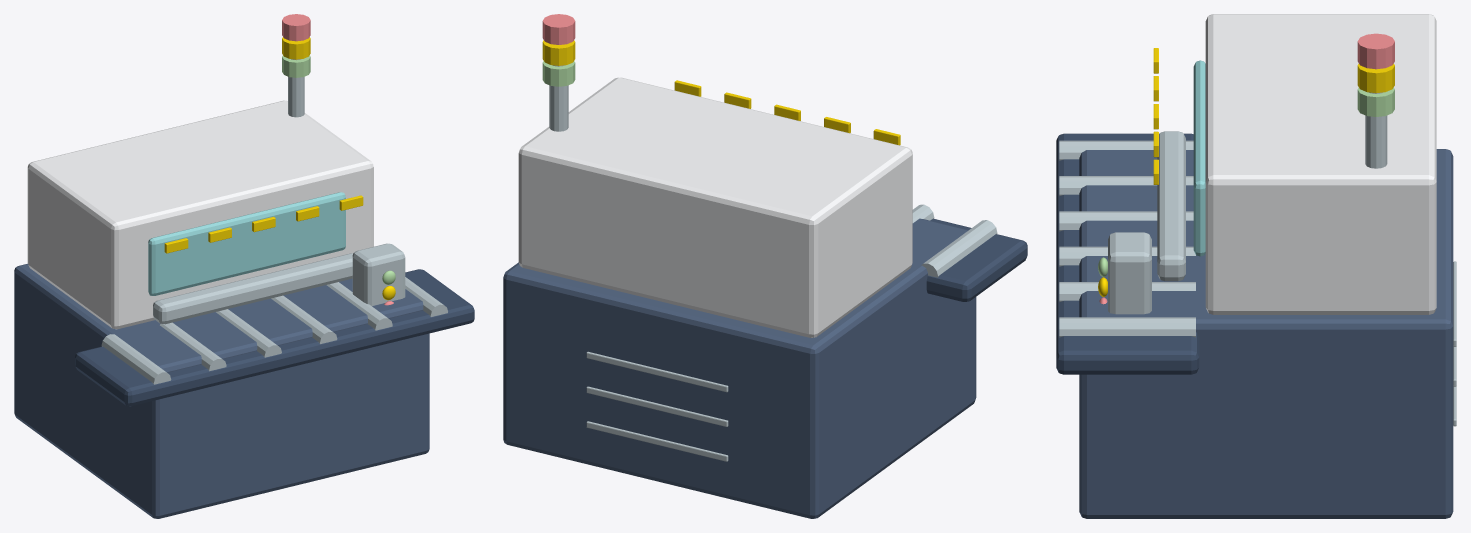
Rendered from machine-seal.glb.
3 renders of one model, left to right at view 1: azimuth 30°, elevation 25°; view 2: azimuth 150°, elevation 25°; view 3: azimuth 270°, elevation 25°, orthographic. The views are drawn at different scales.
Parts seen in each view (by area): view 1: Machine pedestal.003, Upper body.003, Console.003, Safety visor.003, Belt.011, Control button.010, Control button.011, Control button.009; view 2: Machine pedestal.003, Upper body.003, Console.003, Belt.011, Control button.010, Control button.011, Control button.009; view 3: Machine pedestal.003, Upper body.003, Console.003, Belt.011, Safety visor.003, Control button.010, Control button.011, Control button.009.
Part boxes in pixels (x1,y1,x2,y2): Machine pedestal.003: [14, 263, 429, 518]; Upper body.003: [27, 100, 373, 329]; Console.003: [101, 59, 447, 384]; Safety visor.003: [148, 192, 345, 295]; Belt.011: [75, 269, 474, 406]; Control button.010: [164, 37, 395, 300]; Control button.011: [282, 14, 393, 305]; Control button.009: [282, 55, 395, 284]; Machine pedestal.003: [503, 218, 976, 518]; Upper body.003: [518, 77, 912, 337]; Console.003: [549, 65, 997, 461]; Belt.011: [926, 219, 1027, 301]; Control button.010: [542, 40, 900, 145]; Control button.011: [542, 14, 575, 44]; Control button.009: [542, 61, 575, 86]; Machine pedestal.003: [1079, 149, 1453, 518]; Upper body.003: [1205, 14, 1436, 314]; Console.003: [1059, 92, 1456, 426]; Belt.011: [1056, 133, 1199, 374]; Safety visor.003: [1193, 60, 1205, 256]; Control button.010: [1098, 48, 1394, 296]; Control button.011: [1099, 33, 1394, 304]; Control button.009: [1098, 87, 1394, 276].
Bounding box in the file's own units: 2.4 × 2.34 × 1.82.
